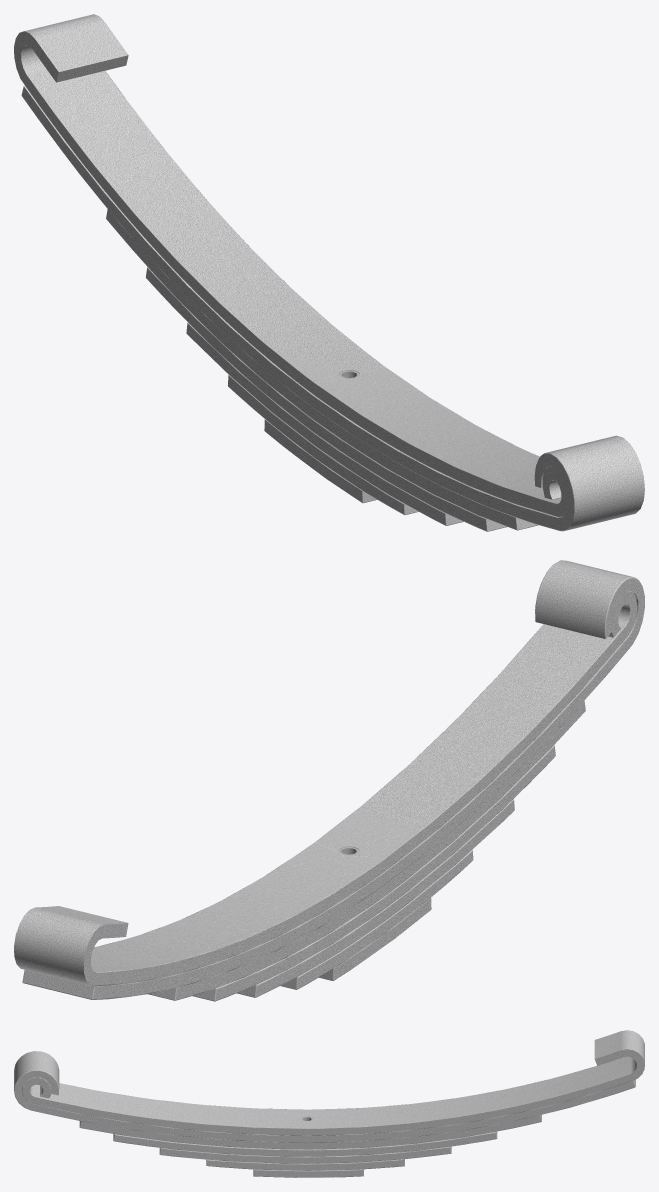
File: Leaf-Layer.gltf
The picture shows the model from 3 angles, top to bottom: view 1: azimuth 30°, elevation 25°; view 2: azimuth 150°, elevation 25°; view 3: azimuth 270°, elevation 25°; orthographic projection. The views are drawn at different scales.
Visible parts, largest first — view 1: Solid1; view 2: Solid1; view 3: Solid1.
Boxes of the visible parts, <box> form: Solid1: <box>14,14,644,531</box>; Solid1: <box>14,560,644,1001</box>; Solid1: <box>14,1030,644,1177</box>.
Bounding box in the file's own units: 0.077 × 0.2382 × 1.06.
Materials: 2 (1 with a texture image).
